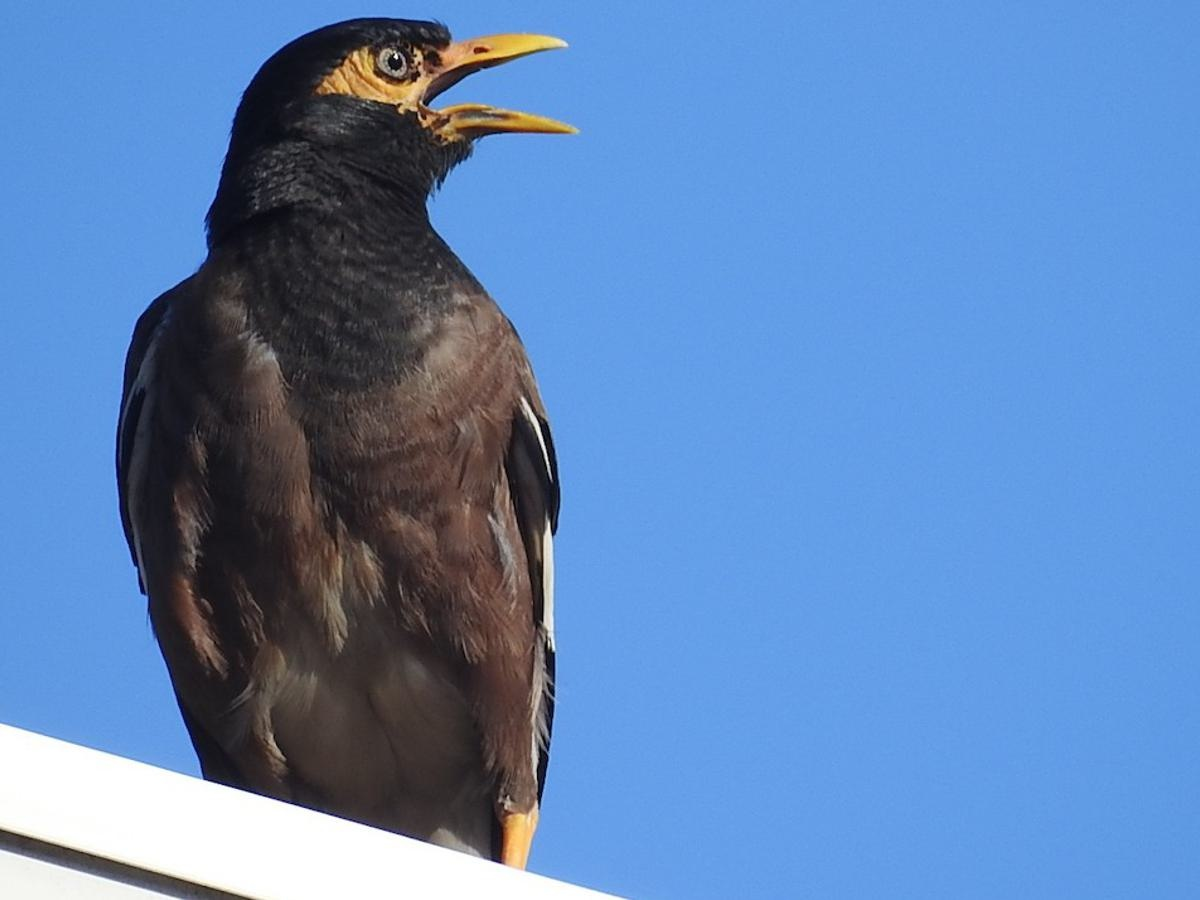myna: (138, 12, 637, 851)
